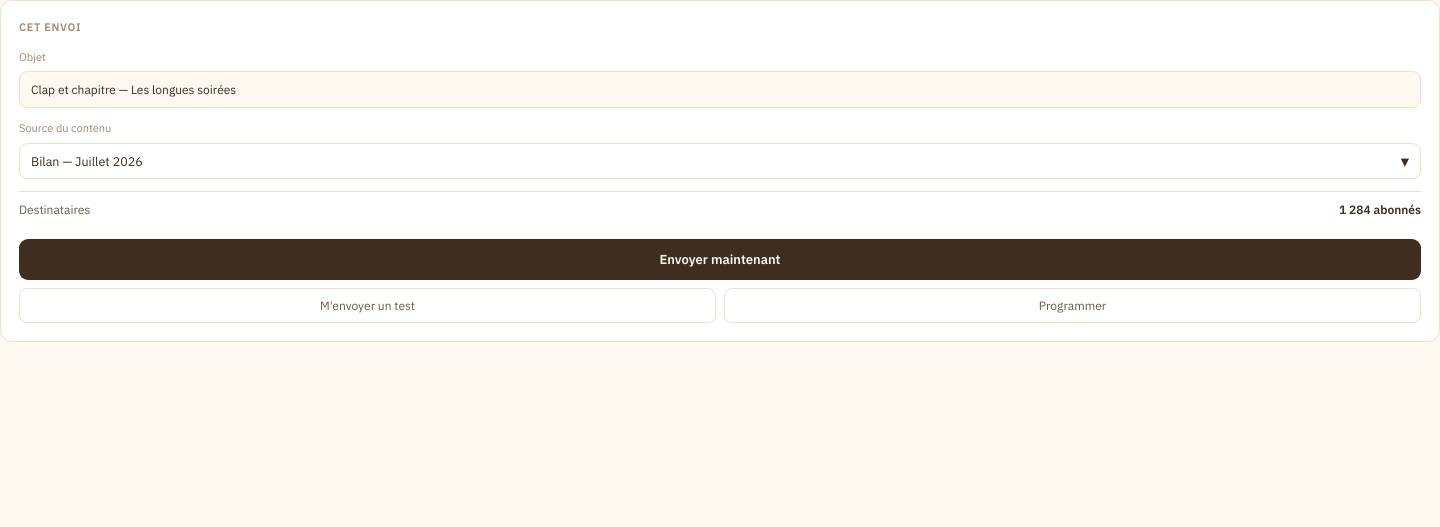
Scenario: AN-3 newsletter panels › keeps a single form open at a time
Click the button "M'envoyer un test": (368, 306) [19,288,716,323]
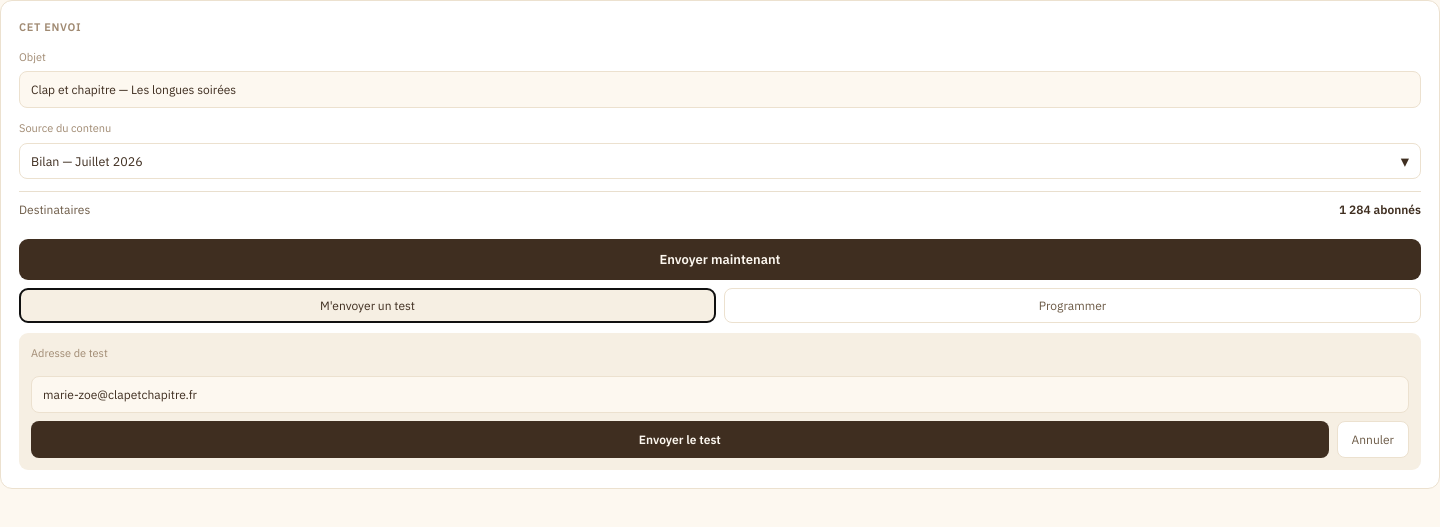
Click the button "Programmer": (1072, 306) [724,288,1421,323]
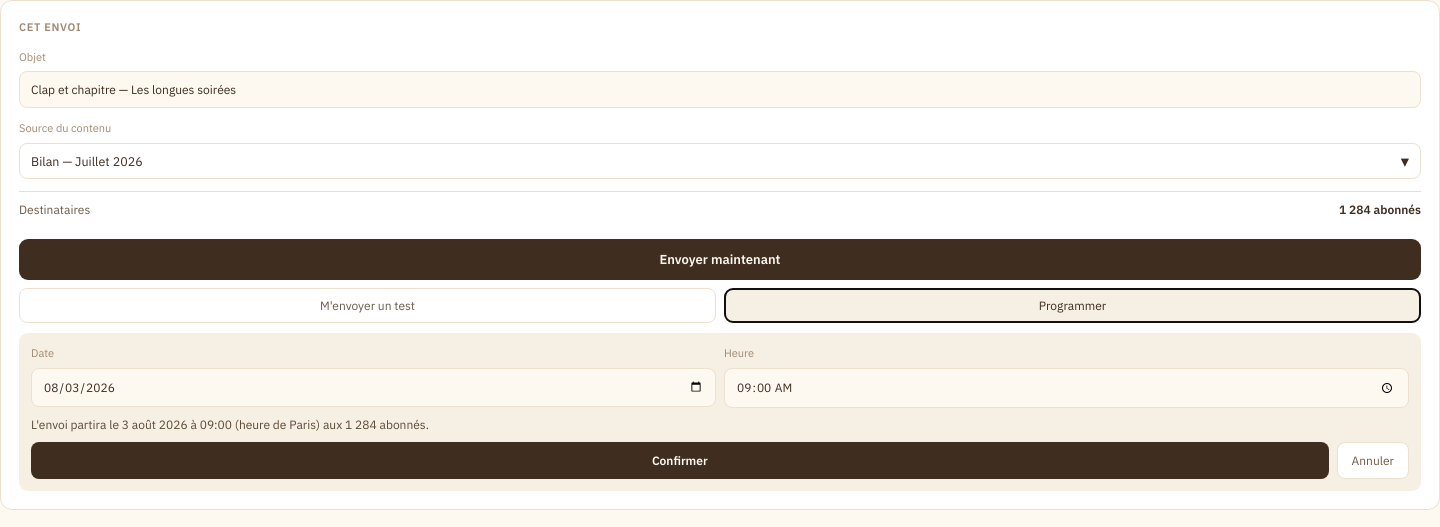
Check: the element with test id "newsletter-schedule-form" is shown, box [19,333,1421,491]
Check: the element with test id "newsletter-test-form" is gone
# Clicking the open action again folds it away.
Click the button "Programmer": (1072, 306) [724,288,1421,323]
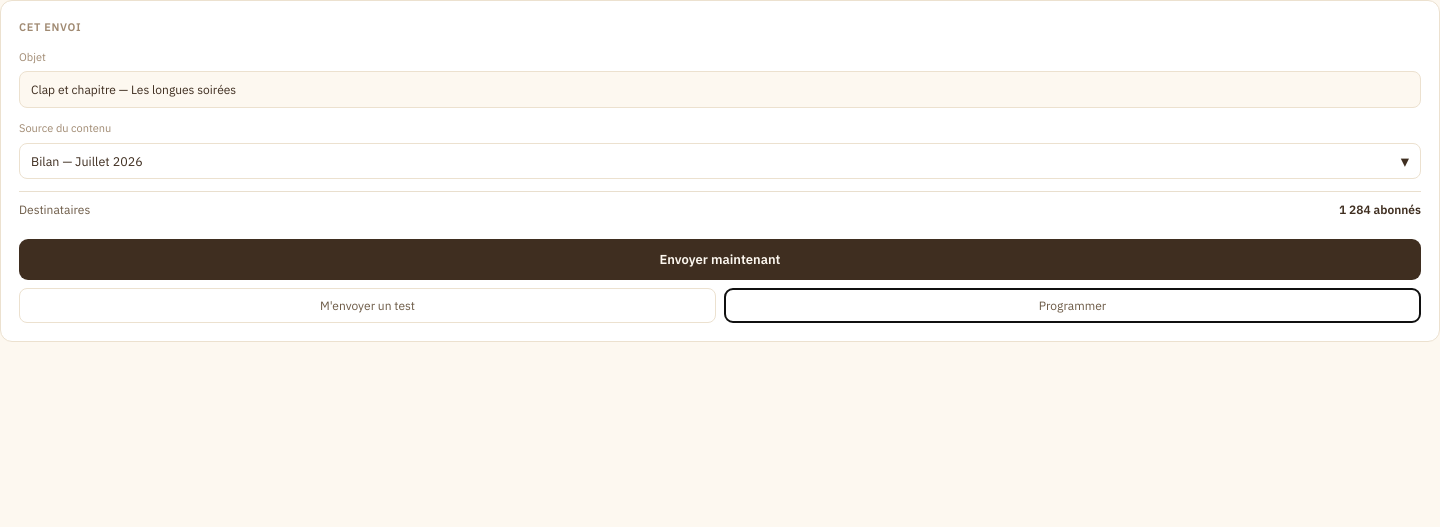
Check: the element with test id "newsletter-schedule-form" is gone
